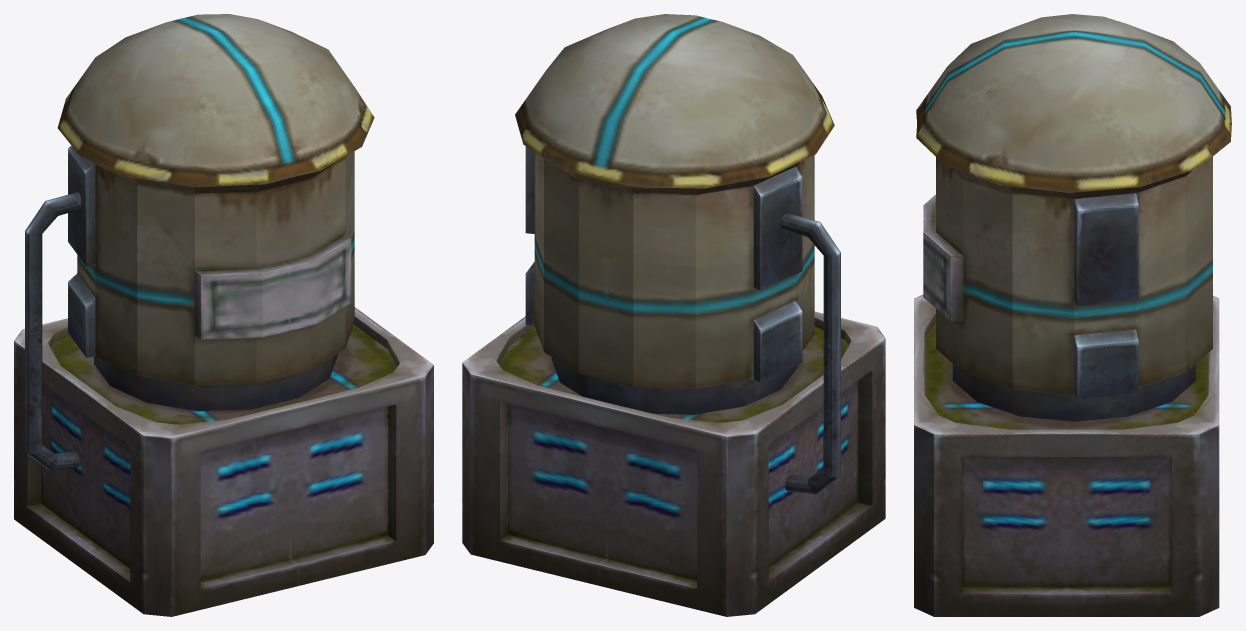
File: Map02_FaDmJiM_01.FBX
3 renders of one model, left to right at view 1: azimuth 30°, elevation 25°; view 2: azimuth 150°, elevation 25°; view 3: azimuth 270°, elevation 25°, orthographic. The views are drawn at different scales.
Visible parts, largest first — view 1: Map02_FaDmJiM_01; view 2: Map02_FaDmJiM_01; view 3: Map02_FaDmJiM_01.
Boxes of the visible parts, x1,y1,x2,y2 form: Map02_FaDmJiM_01: (14,14,433,616); Map02_FaDmJiM_01: (462,14,885,616); Map02_FaDmJiM_01: (914,14,1231,616).
Bounding box in the file's own units: 1114 × 1623 × 919.
